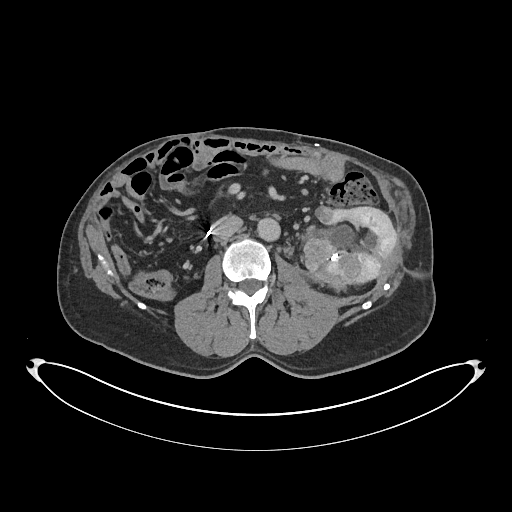Lesion: (301, 235, 332, 270)
